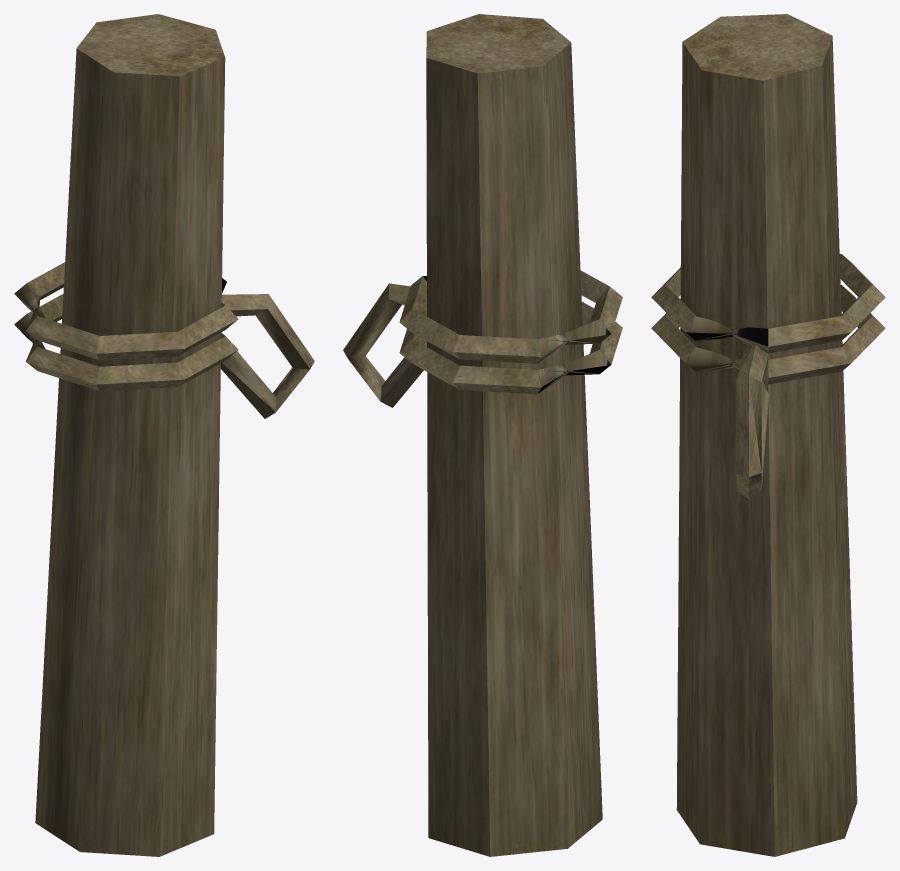
Rendered from Cattle_Tether_Post.glb.
The picture shows the model from 3 angles, left to right: view 1: azimuth 30°, elevation 25°; view 2: azimuth 150°, elevation 25°; view 3: azimuth 270°, elevation 25°; orthographic projection.
Parts seen in each view (by area): view 1: Cattle_Tether_Post; view 2: Cattle_Tether_Post; view 3: Cattle_Tether_Post.
Part boxes in pixels (x1,y1,x2,y2): Cattle_Tether_Post: (14,14,314,856); Cattle_Tether_Post: (343,14,622,856); Cattle_Tether_Post: (651,14,885,856).
Size of the model in its own units: 0.333 by 0.885 by 0.24.
Materials: 1 (1 with a texture image).
